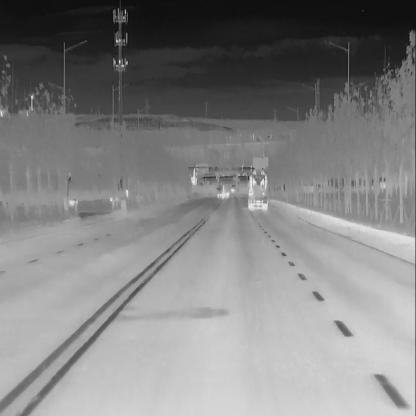truck: (246, 167, 270, 212), (215, 182, 233, 199)
